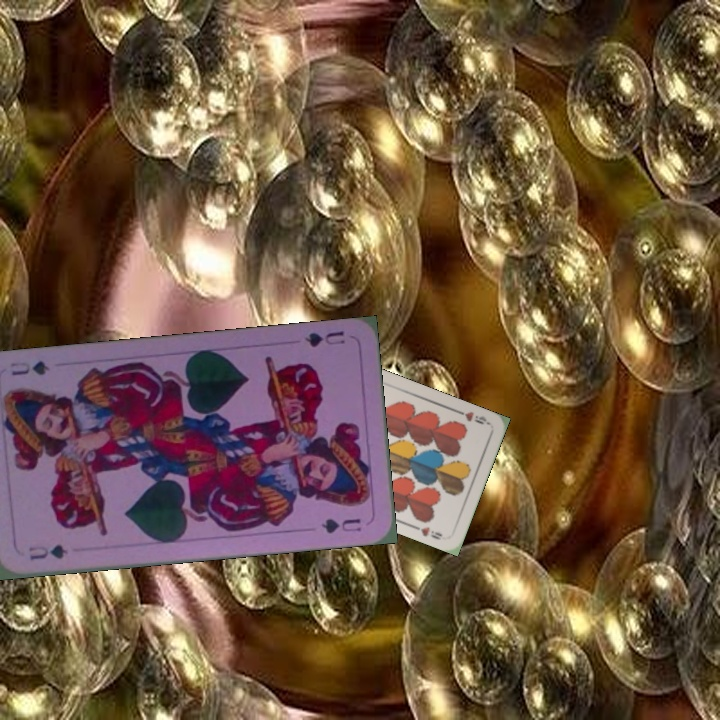GU: (24, 540, 71, 563), (301, 326, 347, 349)
H9: (452, 406, 492, 427)
